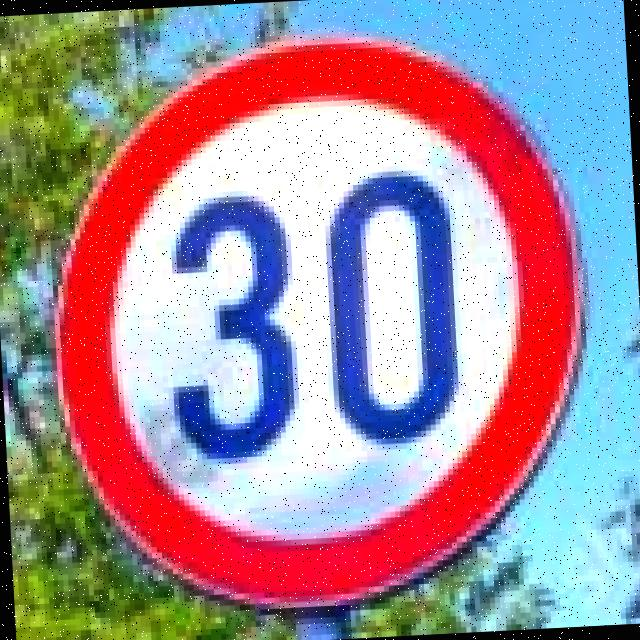Ograniczenie predkosci do 30: (36, 20, 600, 614)
